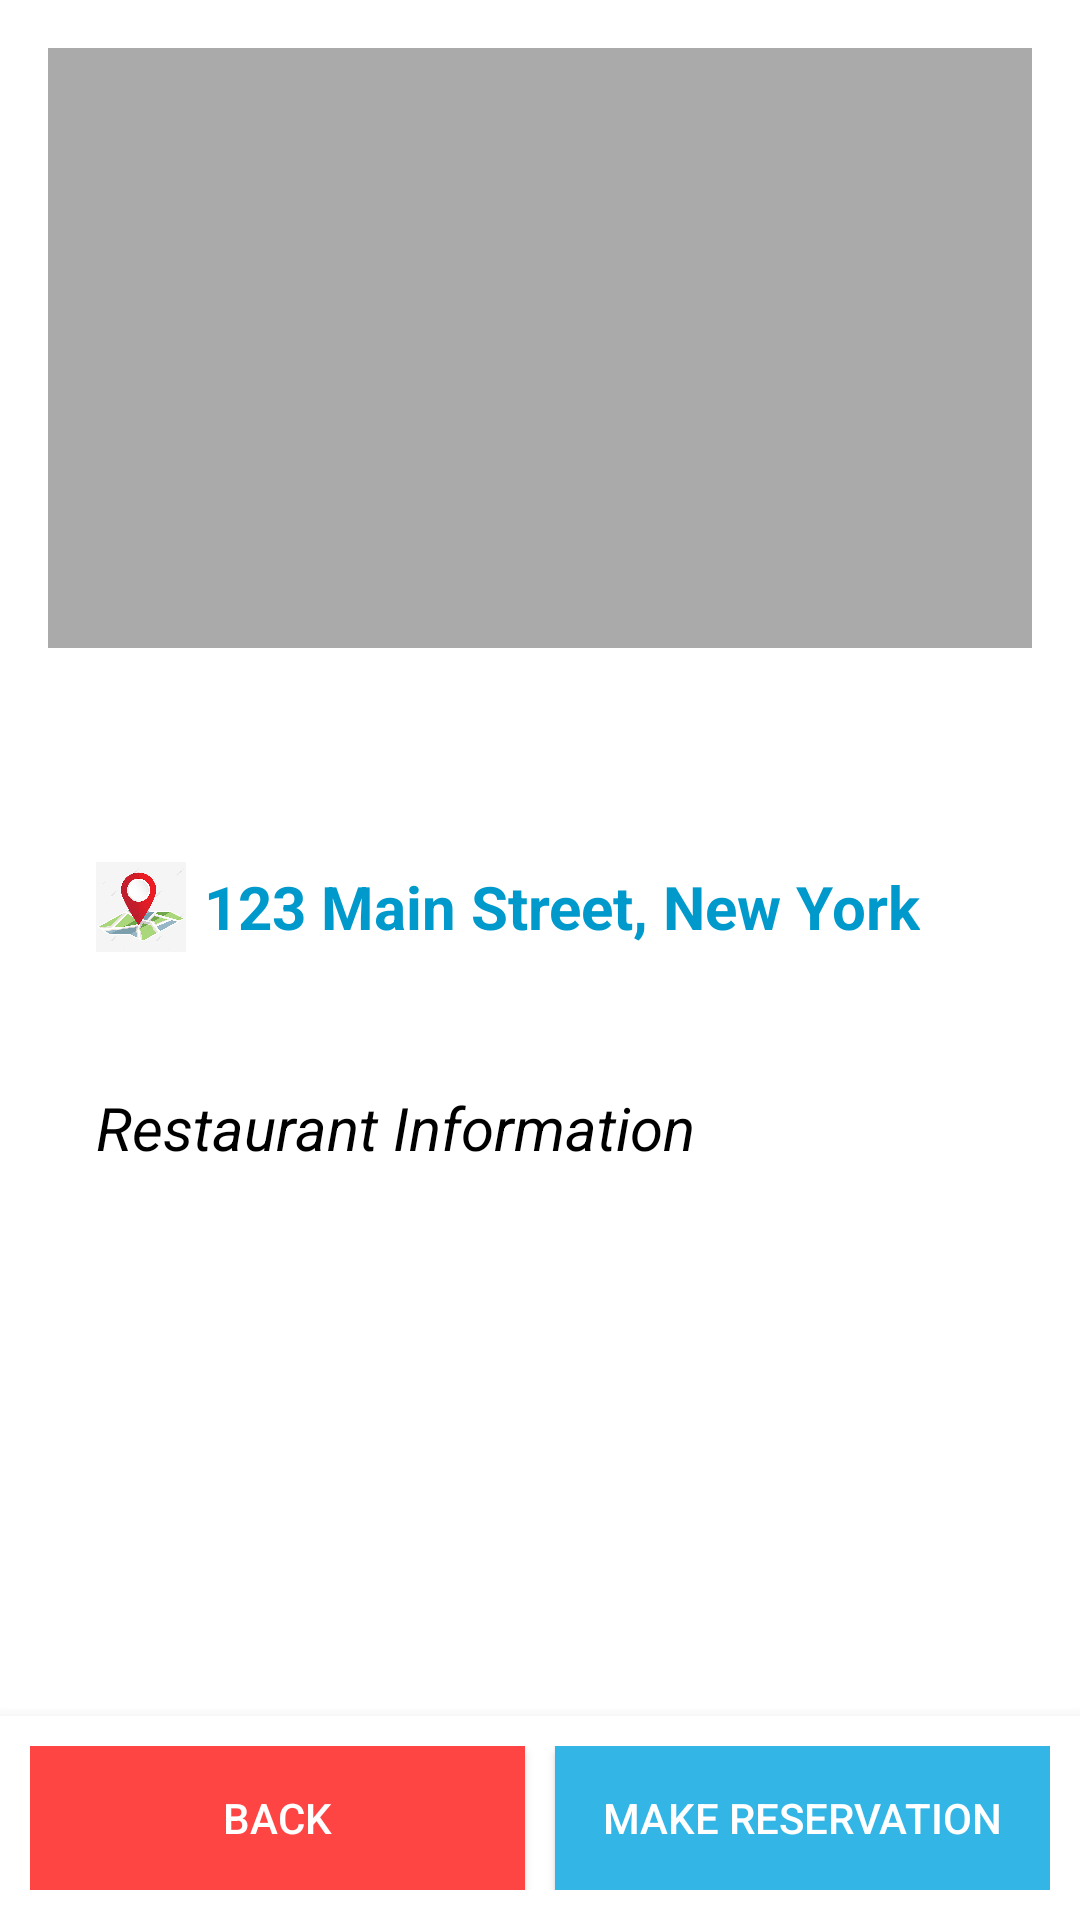

Named icons in this screenshot (1080×1920) and their centers, (x=x, y=y):
location: (x=141, y=907)
